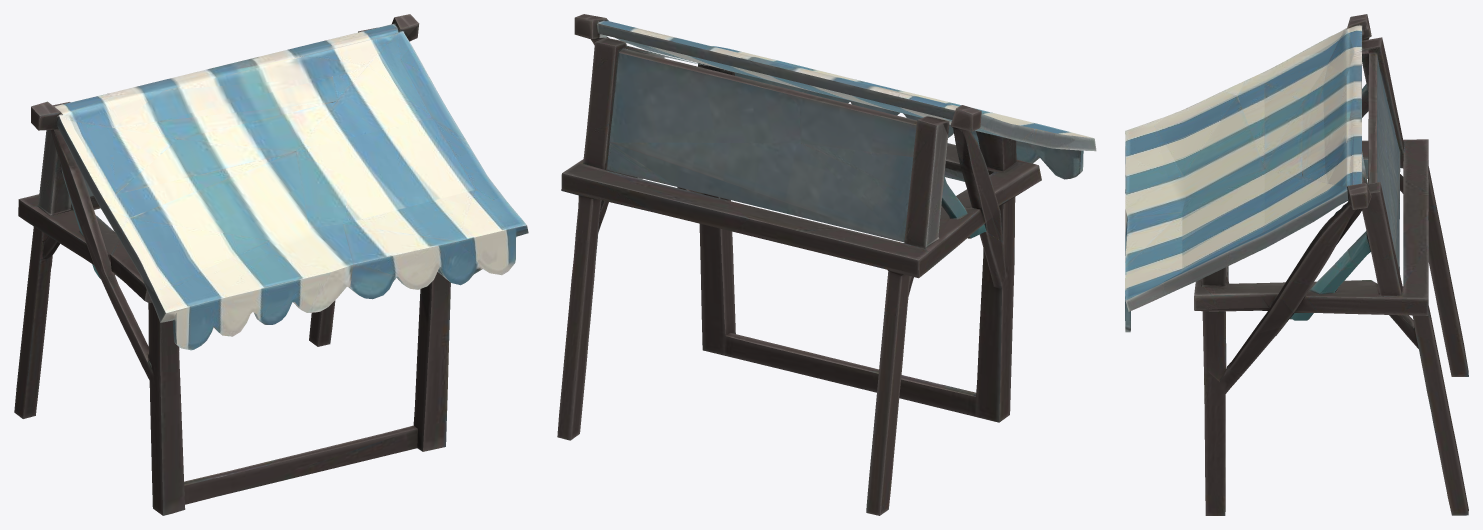
The model's file is awning.glb.
3 renders of one model, left to right at view 1: azimuth 30°, elevation 25°; view 2: azimuth 150°, elevation 25°; view 3: azimuth 270°, elevation 25°, orthographic. The views are drawn at different scales.
Parts seen in each view (by area): view 1: awning; view 2: awning; view 3: awning.
Boxes of the visible parts, bbox=[...] form: awning: bbox=[14, 14, 528, 515]; awning: bbox=[557, 14, 1096, 515]; awning: bbox=[1125, 14, 1468, 515].
Size of the model in its own units: 3.08 by 2.8 by 2.51.
Materials: 1 (1 with a texture image).
